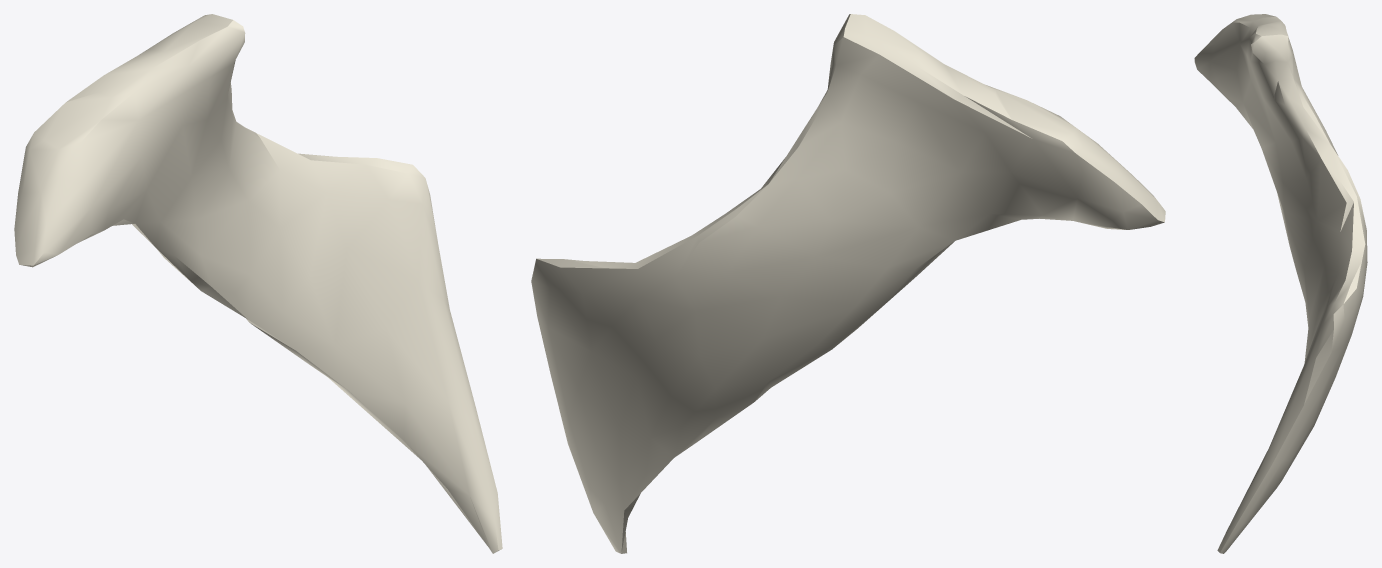
Rendered from fma326295-l_mm1624.glb.
3 views of the same model, side by side, from view 1: azimuth 30°, elevation 25°; view 2: azimuth 150°, elevation 25°; view 3: azimuth 270°, elevation 25° (orthographic). The views are drawn at different scales.
Visible parts, largest first — view 1: FMA326295-L_MM1624; view 2: FMA326295-L_MM1624; view 3: FMA326295-L_MM1624.
Part boxes in pixels (x1,y1,x2,y2): FMA326295-L_MM1624: (14, 14, 502, 553); FMA326295-L_MM1624: (531, 14, 1165, 553); FMA326295-L_MM1624: (1194, 14, 1367, 553).
Size of the model in its own units: 0.0475 by 0.0518 by 0.0189.
